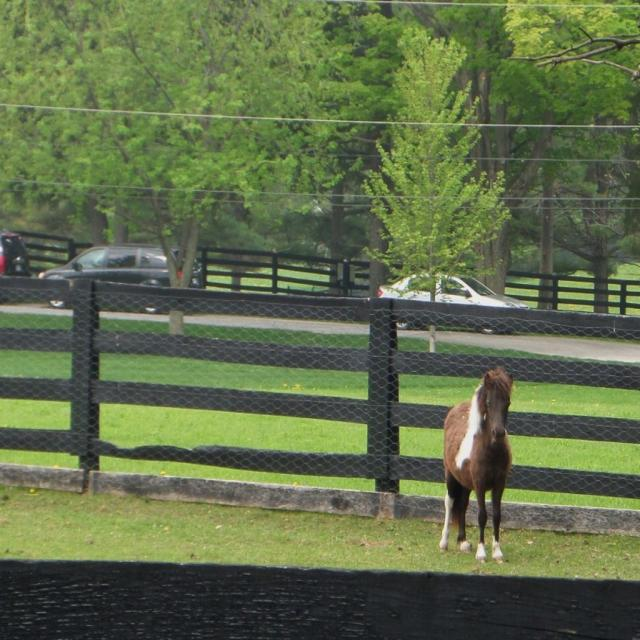Horse: (436, 364, 514, 564)
